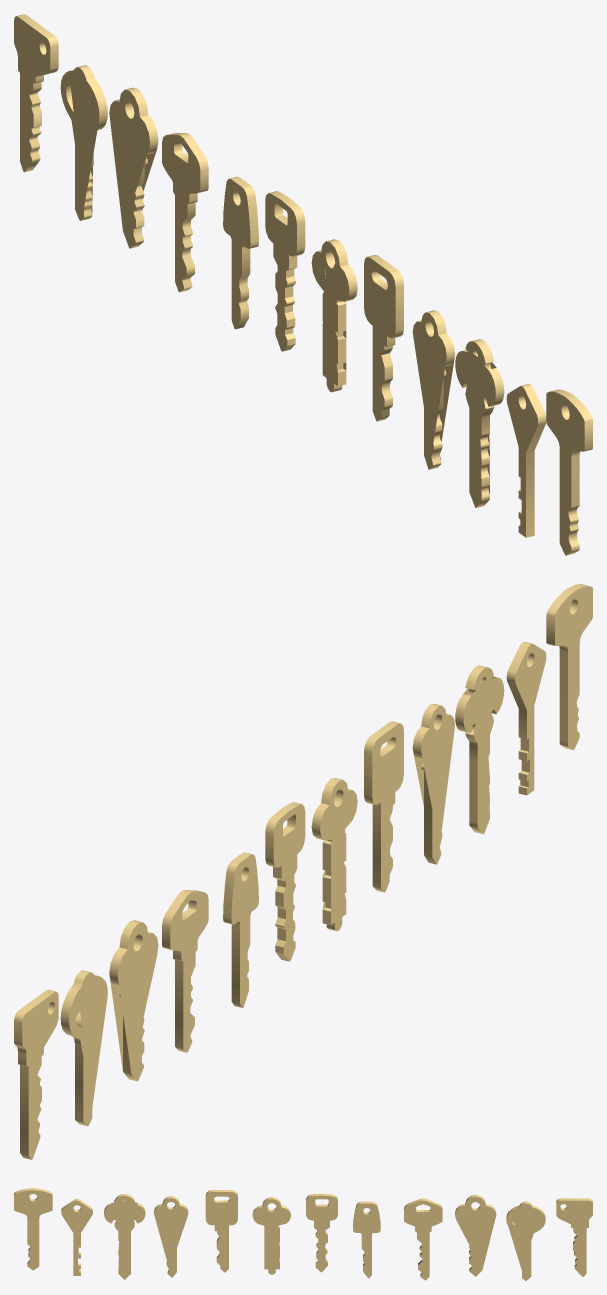
The model's file is keys.obj.
3 views of the same model, one above another, from view 1: azimuth 30°, elevation 25°; view 2: azimuth 150°, elevation 25°; view 3: azimuth 270°, elevation 25° (orthographic). The views are drawn at different scales.
Visible parts, largest first — view 1: key_10, key_3, key_5, key_1, key_4, key_6, key_12, key_9, key_11, key_7, key_8, key_2; view 2: key_10, key_5, key_3, key_11, key_1, key_12, key_4, key_6, key_9, key_7, key_8, key_2; view 3: key_10, key_11, key_3, key_5, key_1, key_4, key_12, key_6, key_9, key_7, key_8, key_2.
Part boxes in pixels (x1=…): key_10: x1=109, y1=87, x2=158, y2=248; key_3: x1=455, y1=339, x2=504, y2=507; key_5: x1=364, y1=255, x2=403, y2=421; key_1: x1=546, y1=389, x2=592, y2=555; key_4: x1=412, y1=310, x2=455, y2=469; key_6: x1=311, y1=239, x2=357, y2=392; key_12: x1=14, y1=14, x2=58, y2=172; key_9: x1=162, y1=133, x2=208, y2=292; key_11: x1=60, y1=65, x2=107, y2=220; key_7: x1=265, y1=191, x2=305, y2=351; key_8: x1=223, y1=176, x2=258, y2=329; key_2: x1=506, y1=384, x2=546, y2=537; key_10: x1=109, y1=920, x2=158, y2=1081; key_5: x1=364, y1=721, x2=403, y2=892; key_3: x1=455, y1=665, x2=504, y2=834; key_11: x1=60, y1=970, x2=107, y2=1126; key_1: x1=546, y1=584, x2=592, y2=750; key_12: x1=14, y1=989, x2=58, y2=1159; key_4: x1=412, y1=703, x2=454, y2=864; key_6: x1=311, y1=778, x2=357, y2=931; key_9: x1=162, y1=890, x2=208, y2=1052; key_7: x1=265, y1=802, x2=305, y2=961; key_8: x1=223, y1=852, x2=258, y2=1007; key_2: x1=506, y1=641, x2=546, y2=795; key_10: x1=455, y1=1194, x2=496, y2=1276; key_11: x1=506, y1=1201, x2=545, y2=1280; key_3: x1=104, y1=1194, x2=145, y2=1279; key_5: x1=205, y1=1190, x2=237, y2=1272; key_1: x1=14, y1=1188, x2=52, y2=1270; key_4: x1=154, y1=1196, x2=188, y2=1277; key_12: x1=556, y1=1198, x2=592, y2=1276; key_6: x1=252, y1=1197, x2=290, y2=1274; key_9: x1=404, y1=1198, x2=442, y2=1280; key_7: x1=306, y1=1193, x2=337, y2=1272; key_8: x1=353, y1=1201, x2=380, y2=1278; key_2: x1=61, y1=1198, x2=92, y2=1275.
Bounding box in the file's own units: 0.00626 × 0.1187 × 0.6872.
1 material, 1 textured.
